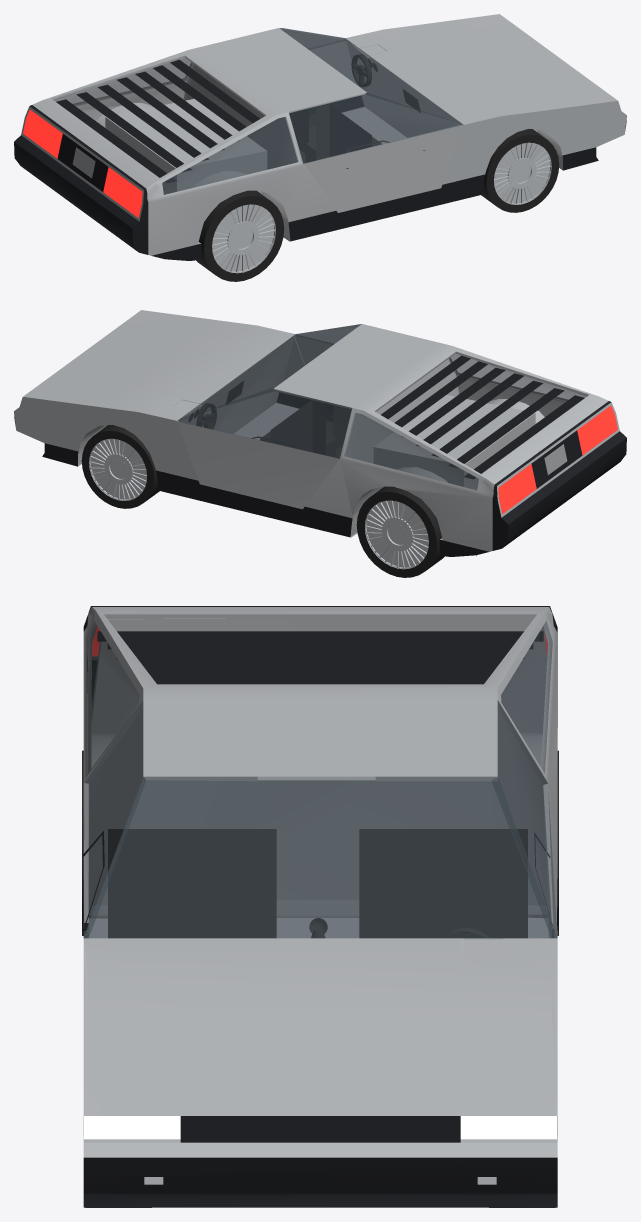
Rendered from delorean.glb.
3 views of the same model, one above another, from view 1: azimuth 30°, elevation 25°; view 2: azimuth 150°, elevation 25°; view 3: azimuth 270°, elevation 25° (orthographic). The views are drawn at different scales.
Parts seen in each view (by area): view 1: body, door_R, wheel_RR, wheel_FR, door_L; view 2: body, door_L, wheel_RL, wheel_FL, door_R; view 3: body, door_R, door_L.
Boxes of the visible parts, x1=… form: body: x1=14, y1=14, x2=626, y2=260; door_R: x1=260, y1=72, x2=463, y2=212; wheel_RR: x1=196, y1=190, x2=284, y2=281; wheel_FR: x1=481, y1=129, x2=559, y2=212; door_L: x1=200, y1=28, x2=345, y2=69; body: x1=14, y1=310, x2=626, y2=556; door_L: x1=177, y1=366, x2=382, y2=509; wheel_RL: x1=356, y1=486, x2=444, y2=577; wheel_FL: x1=81, y1=425, x2=159, y2=508; door_R: x1=294, y1=324, x2=440, y2=364; body: x1=83, y1=606, x2=557, y2=1207; door_R: x1=83, y1=699, x2=257, y2=937; door_L: x1=375, y1=699, x2=557, y2=938.
Size of the model in its own units: 4.26 by 1.18 by 1.78.
